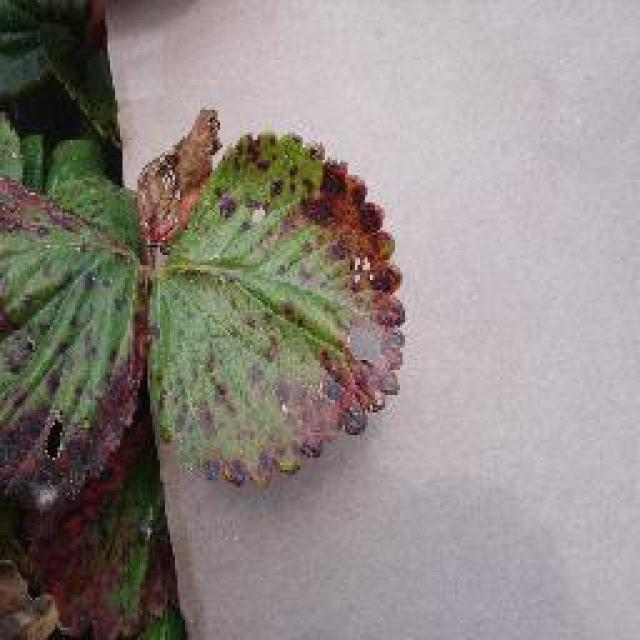Strawberry___Leaf_scorch: (0, 0, 422, 635)
